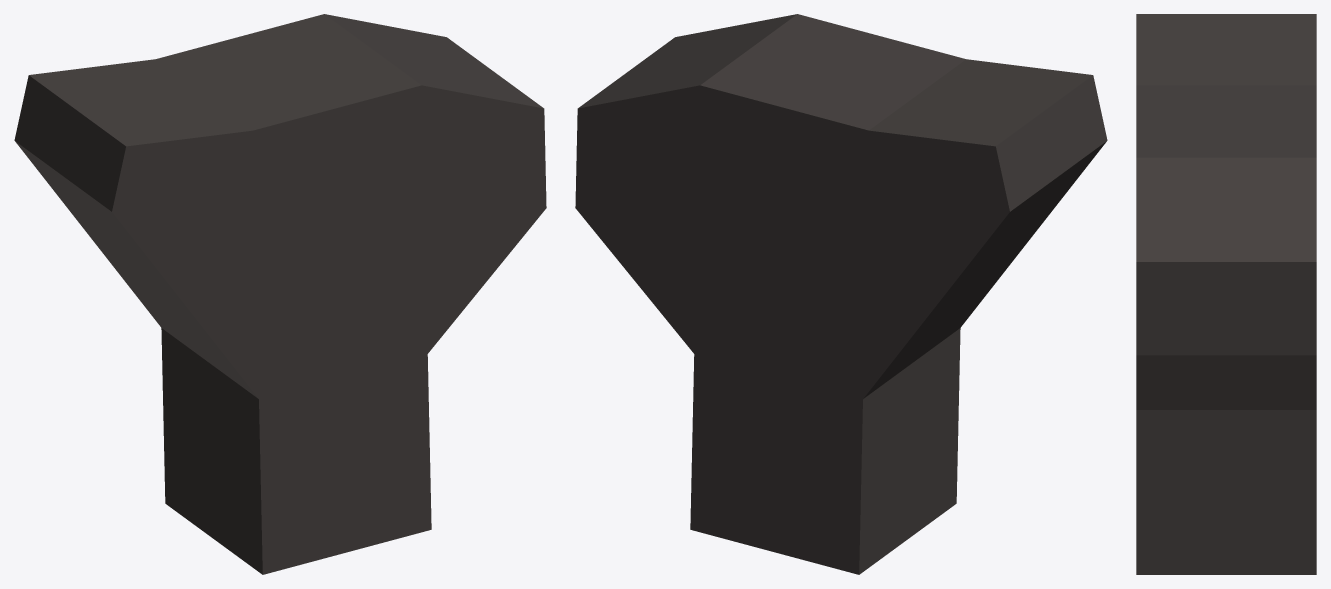
The model's file is Pistol3_03_5.fbx.
The picture shows the model from 3 angles, left to right: view 1: azimuth 30°, elevation 25°; view 2: azimuth 150°, elevation 25°; view 3: azimuth 270°, elevation 25°; orthographic projection. The views are drawn at different scales.
Parts seen in each view (by area): view 1: Pistol3_03_5; view 2: Pistol3_03_5; view 3: Pistol3_03_5.
Boxes of the visible parts, x1,y1,x2,y2 form: Pistol3_03_5: [14, 14, 546, 574]; Pistol3_03_5: [575, 14, 1107, 574]; Pistol3_03_5: [1136, 14, 1316, 574].
Bounding box in the file's own units: 0.0333 × 0.0339 × 0.013.
